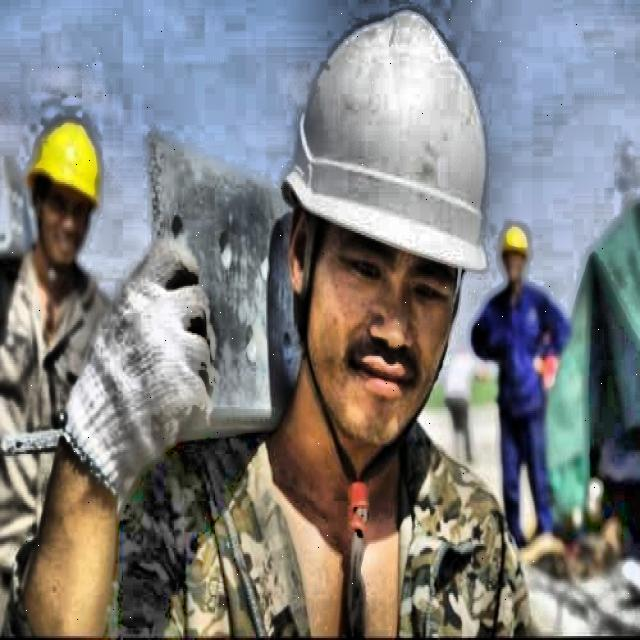helmet: (279, 2, 483, 462), (20, 108, 111, 278), (498, 220, 532, 288)
